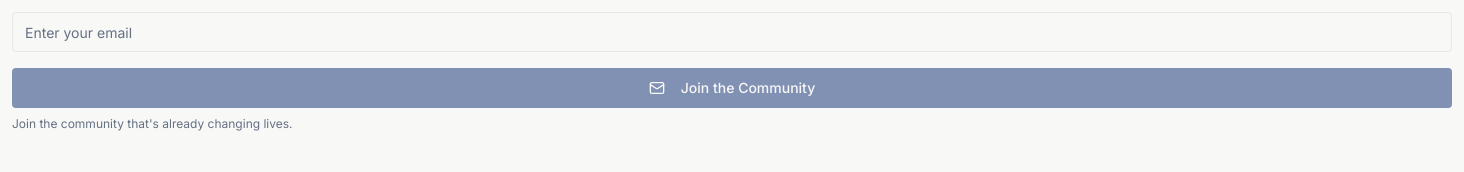
Test case: WaitlistForm › validates email format
Type "invalid-email" into the field with placeholder "Enter your email".
click(732, 32); type("invalid-email")  # box [12, 12, 1452, 52]
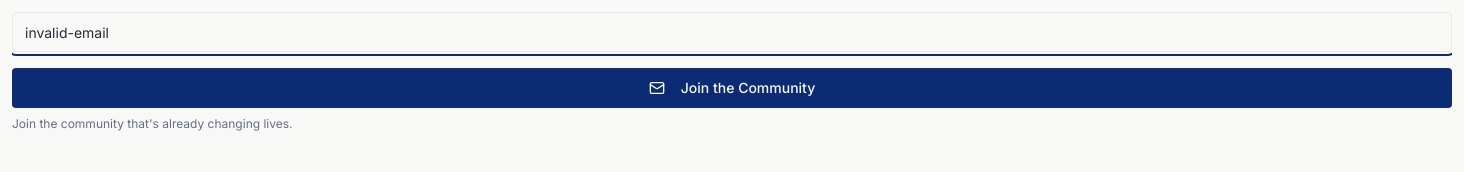
Click the button "Join the Community".
click(732, 88)  # box [12, 68, 1452, 108]
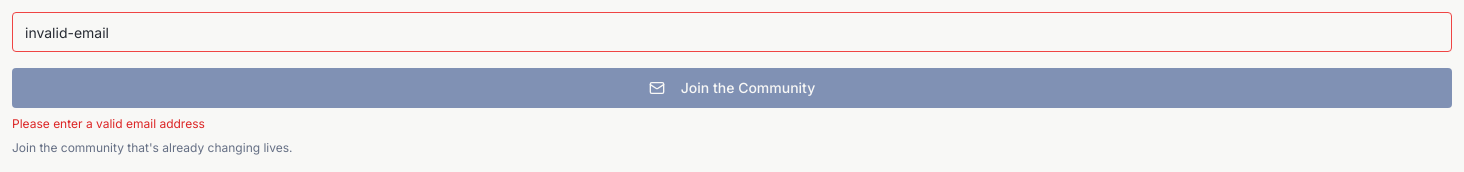
Check: the text "Please enter a valid email address" is shown, box [12, 116, 205, 131]
